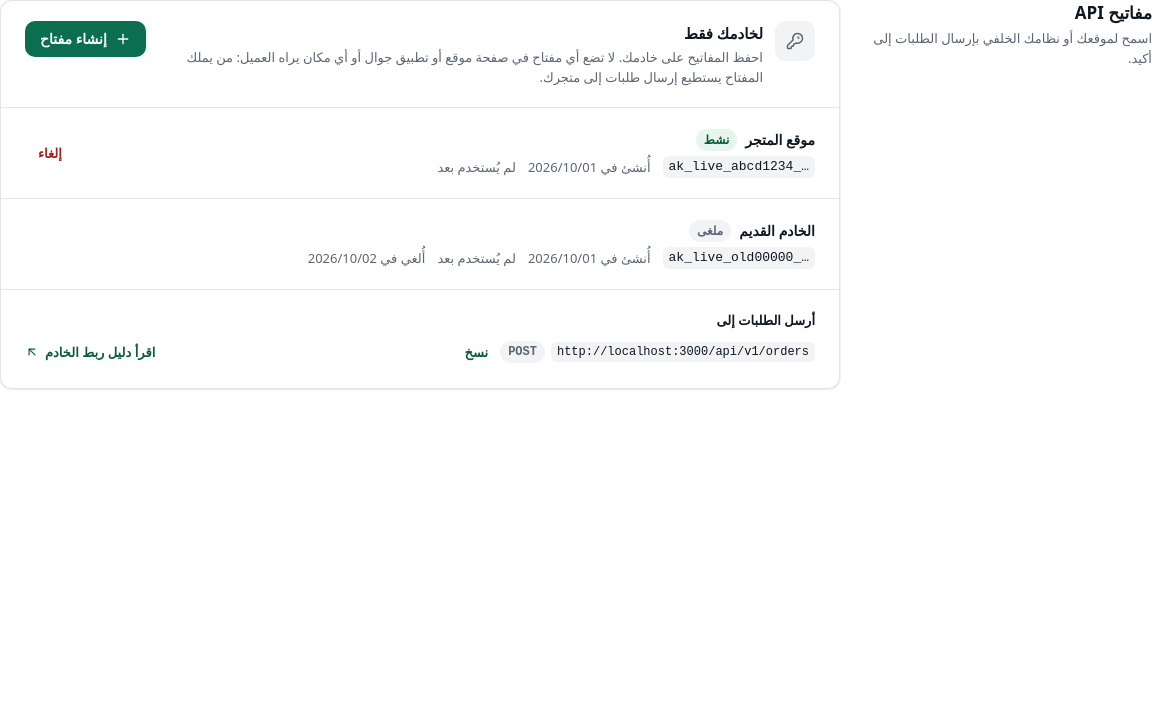
it: ApiKeysTab › explains API_KEY_LIMIT_REACHED in Arabic
This screenshot has width=1152, height=720.
Expected: the list named "مفاتيح API" is shown, left=1, top=108, right=839, bottom=289
Click the button "إنشاء مفتاح": (85, 39) left=25, top=21, right=146, bottom=57
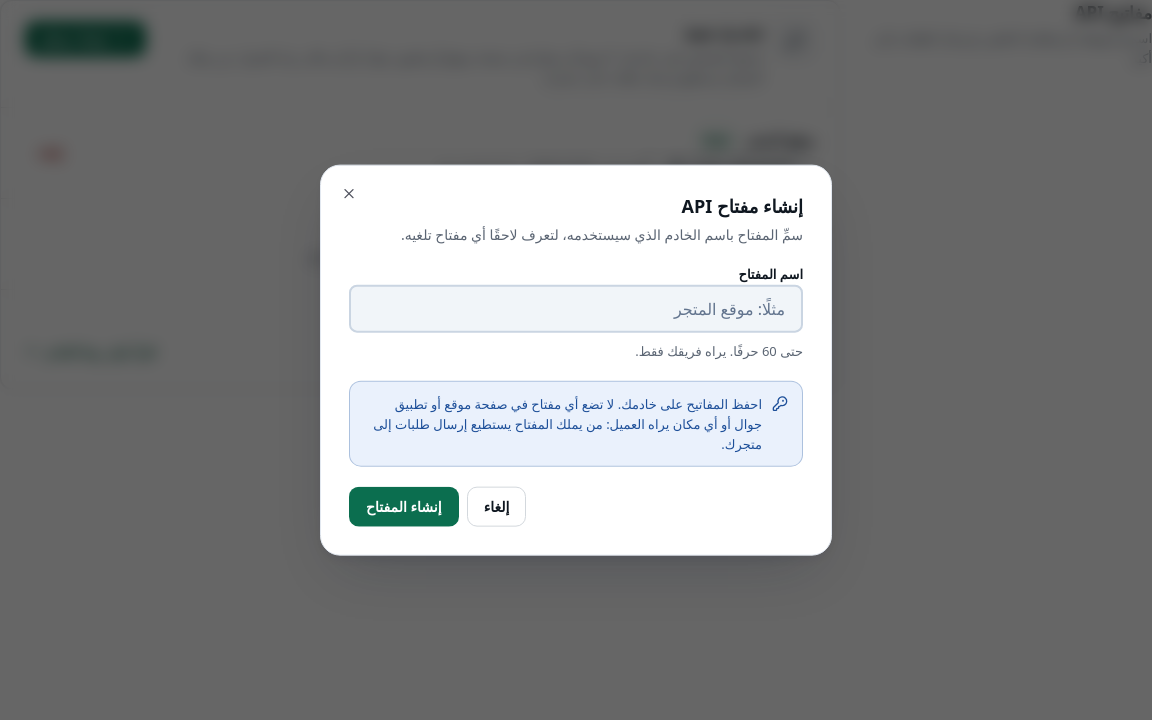
In the field labelled "اسم المفتاح": (576, 308) left=349, top=284, right=803, bottom=332, type "API"
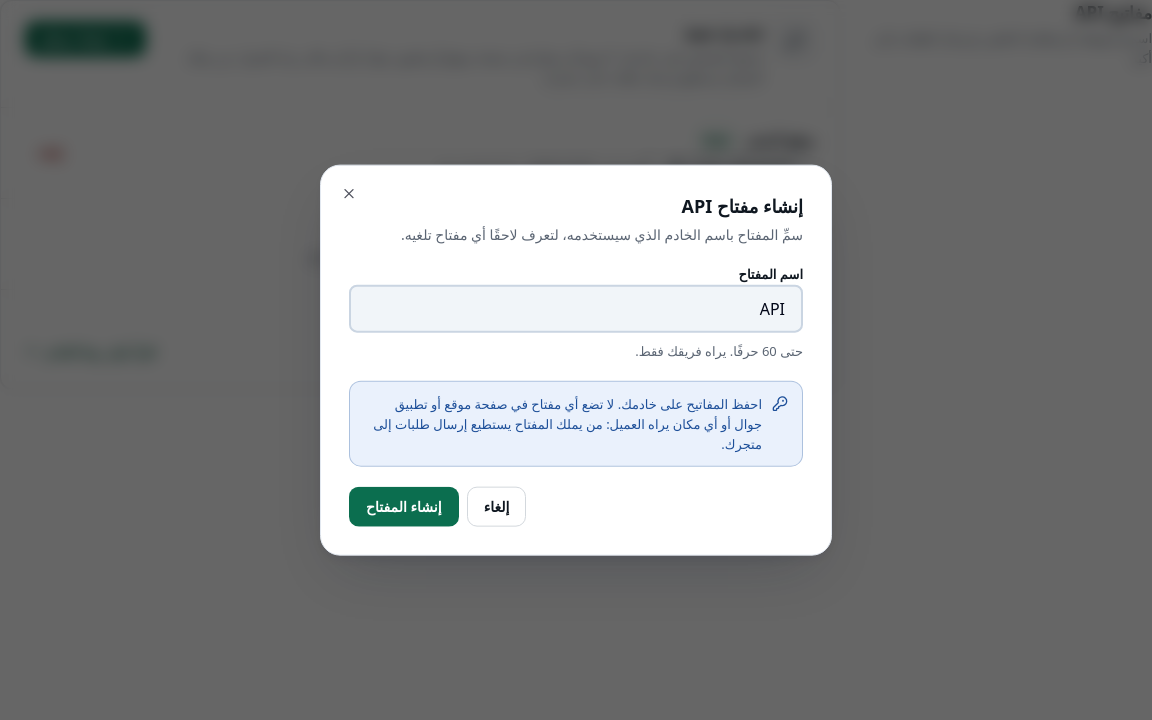
Click the button "إنشاء المفتاح": (404, 506) left=349, top=486, right=459, bottom=526
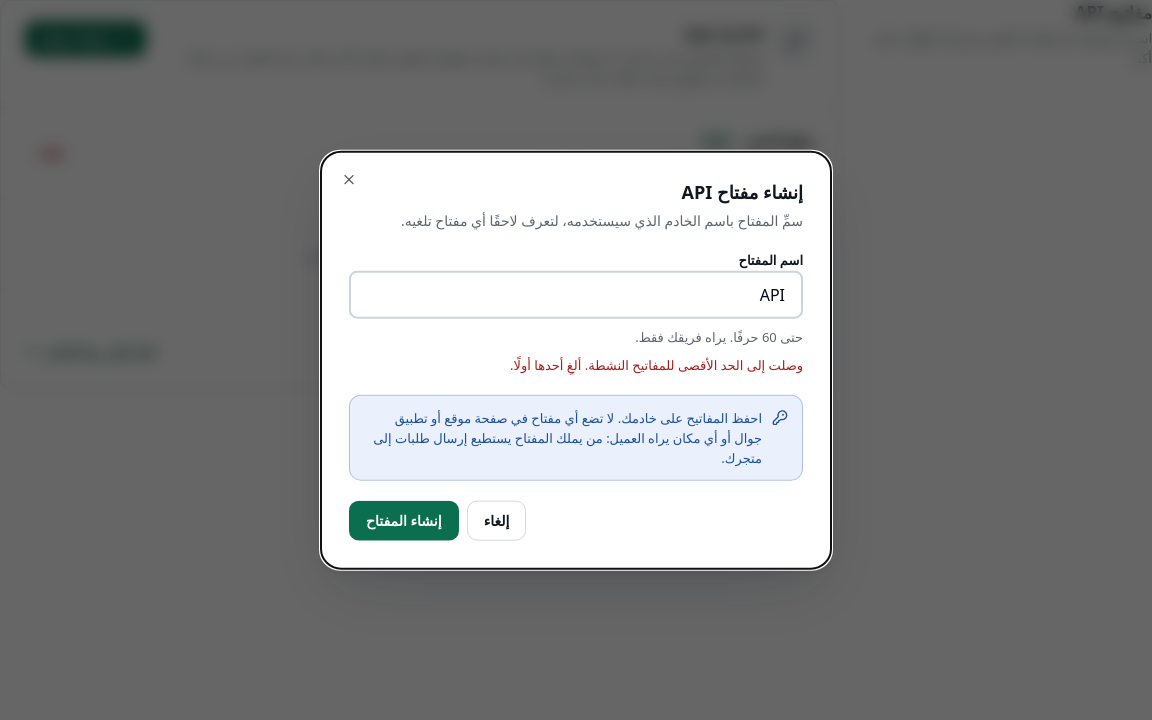
Now the text "وصلت إلى الحد الأقصى للمفاتيح النشطة. ألغِ أحدها أولًا." is shown, box left=510, top=355, right=803, bottom=373
